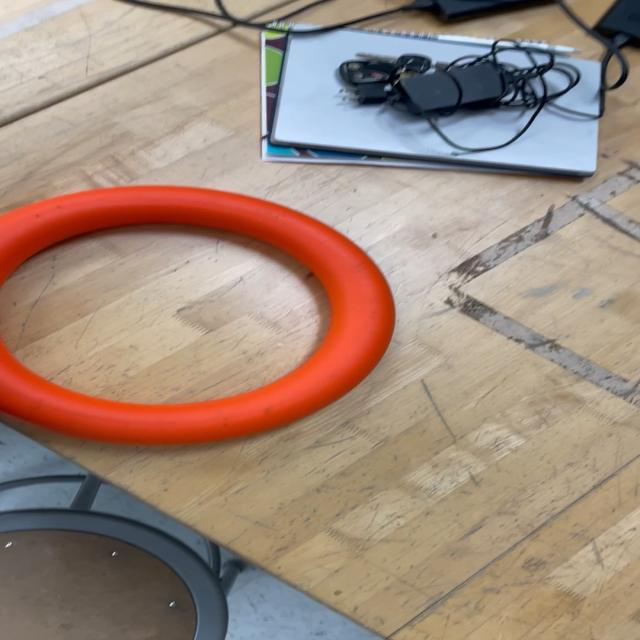note: (0, 183, 397, 449)
